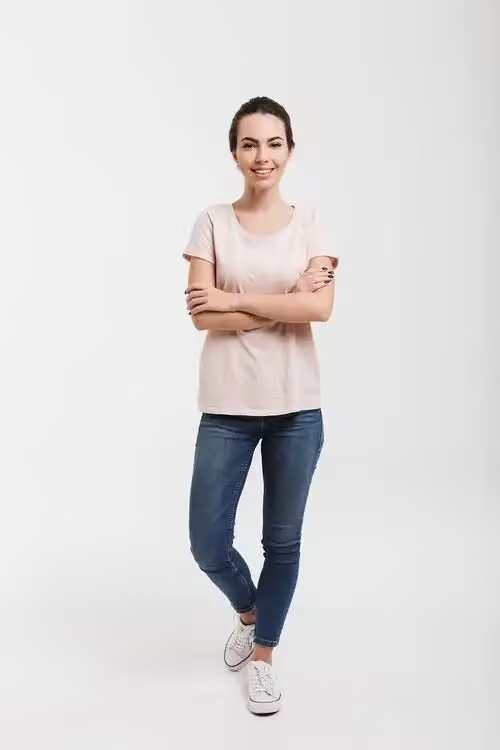up: (172, 80, 348, 724)
